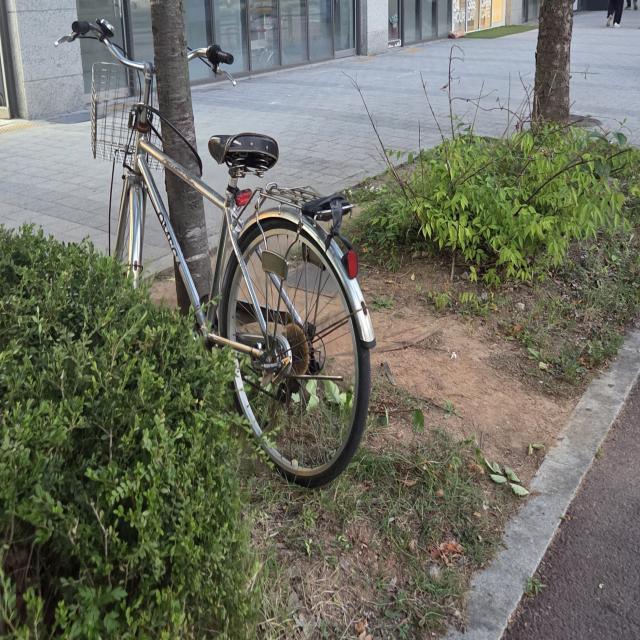bicycle: (43, 4, 406, 527)
